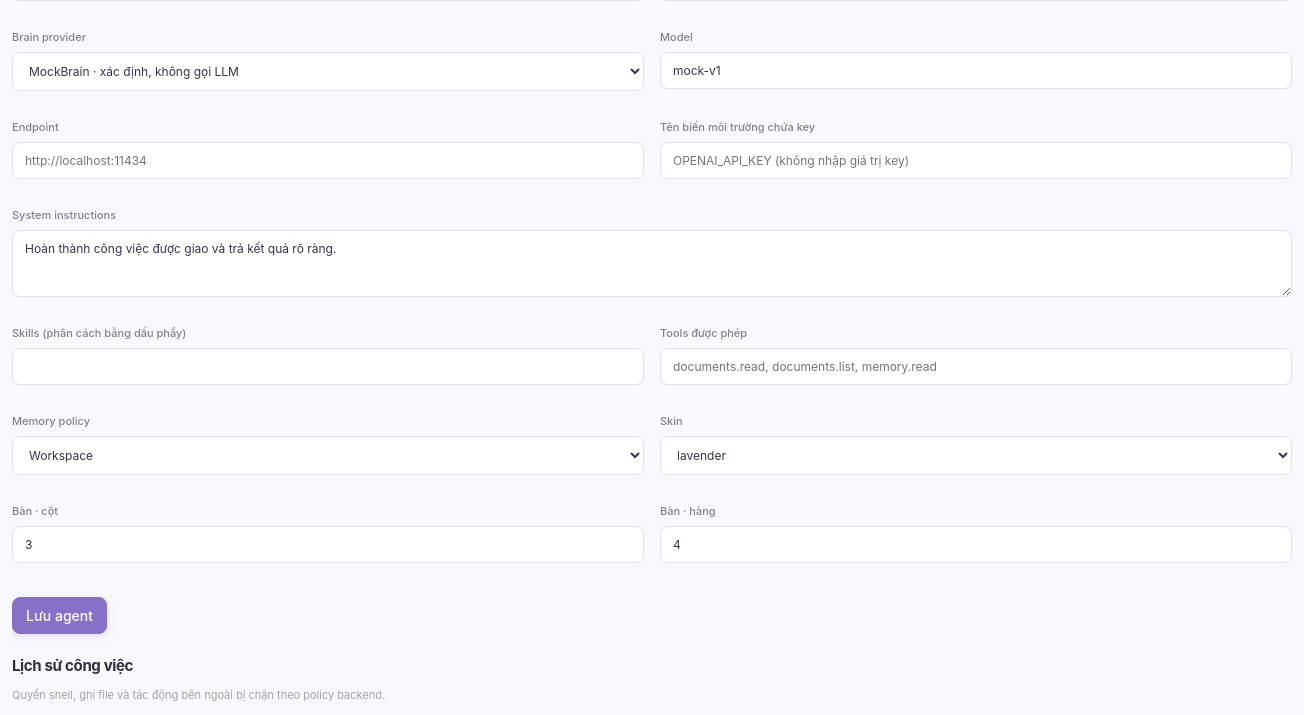
Test: Agent Studio › shows backend failure without reporting saved
(page scrolled)
Click the button "Lưu agent" at (60, 616), box [12,597,107,634]
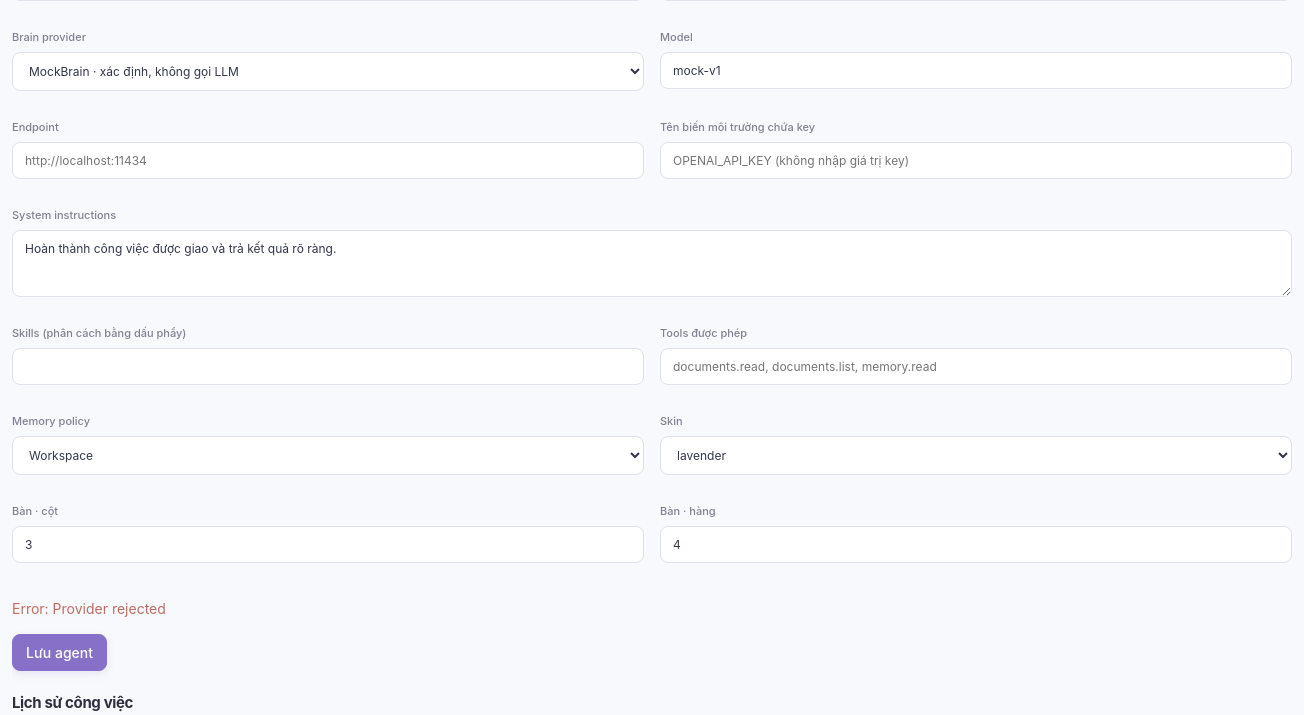
Expected: the message shows "Provider rejected", [12,600,166,617]
